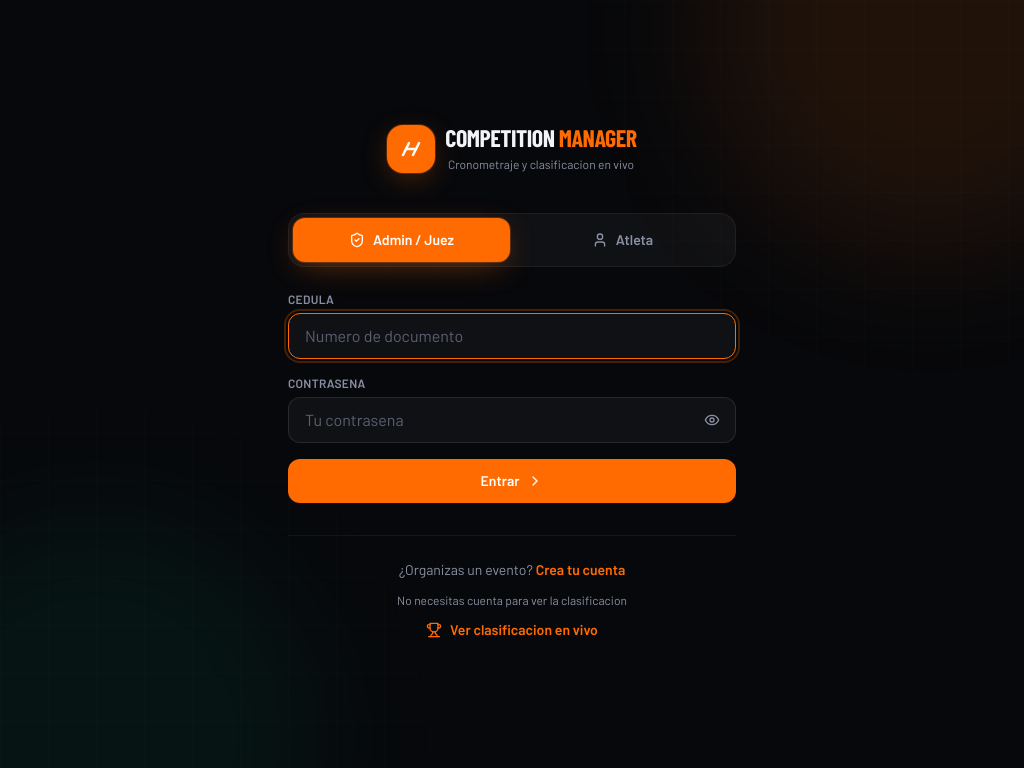
Test case: LoginPage › shows error message on failed login
Step 1. Type "1234567890" into the field labelled "Cedula" → {"x": 512, "y": 336}, box [288, 312, 736, 358]
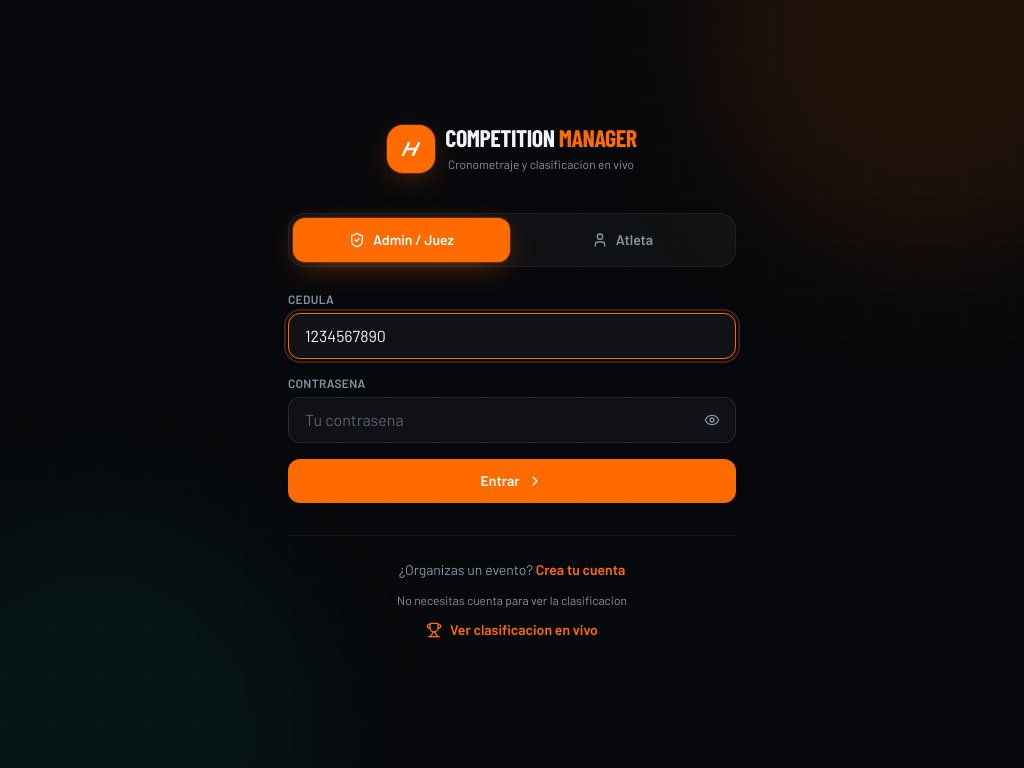
Step 2. Type "wrongpass" into the password field labelled "Contrasena" → {"x": 512, "y": 420}, box [288, 396, 736, 442]
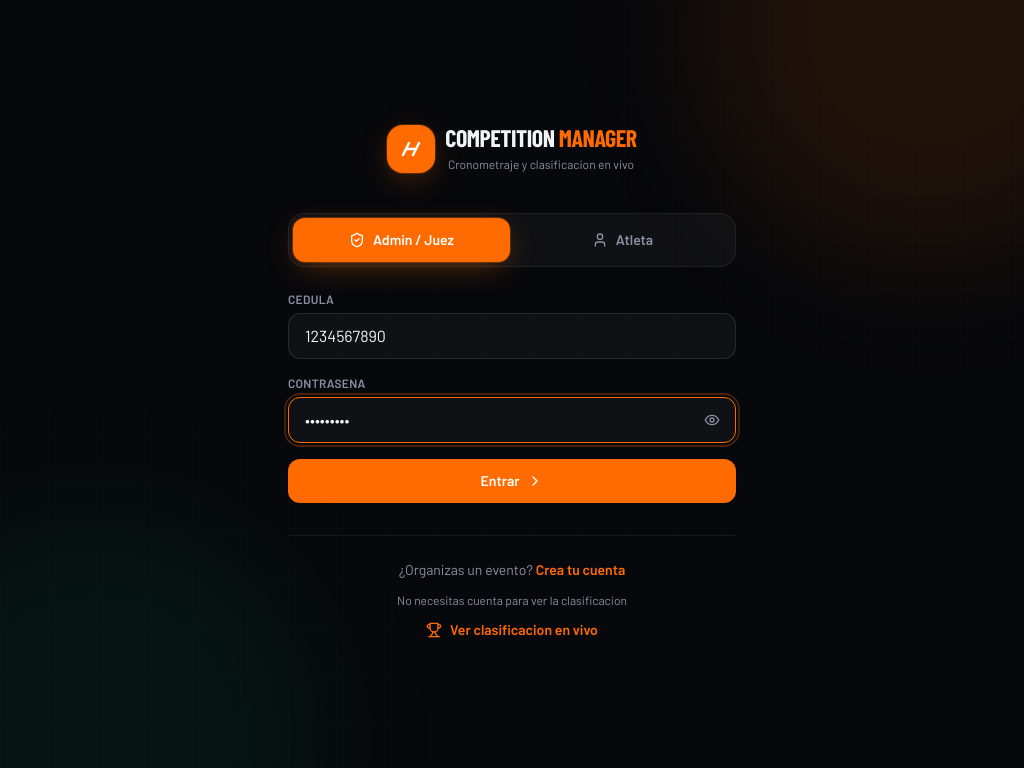
Step 3. Click the button "Entrar" → {"x": 512, "y": 480}, box [288, 458, 736, 502]
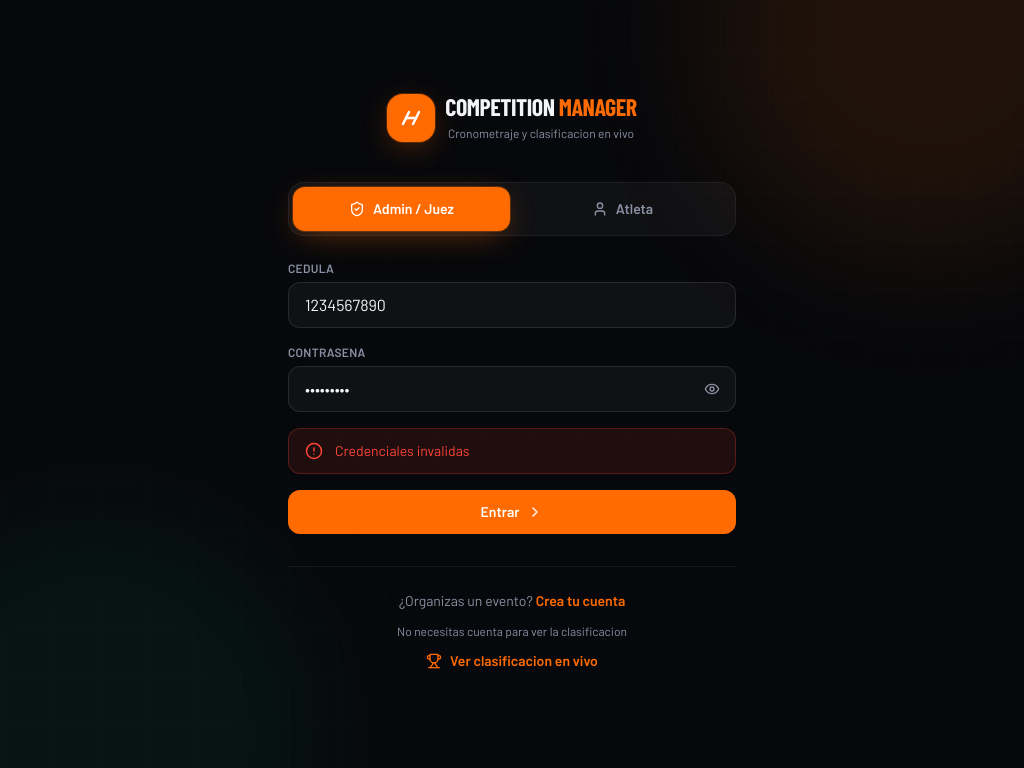
expect the text "Credenciales invalidas" is shown: met, box [335, 442, 470, 458]
